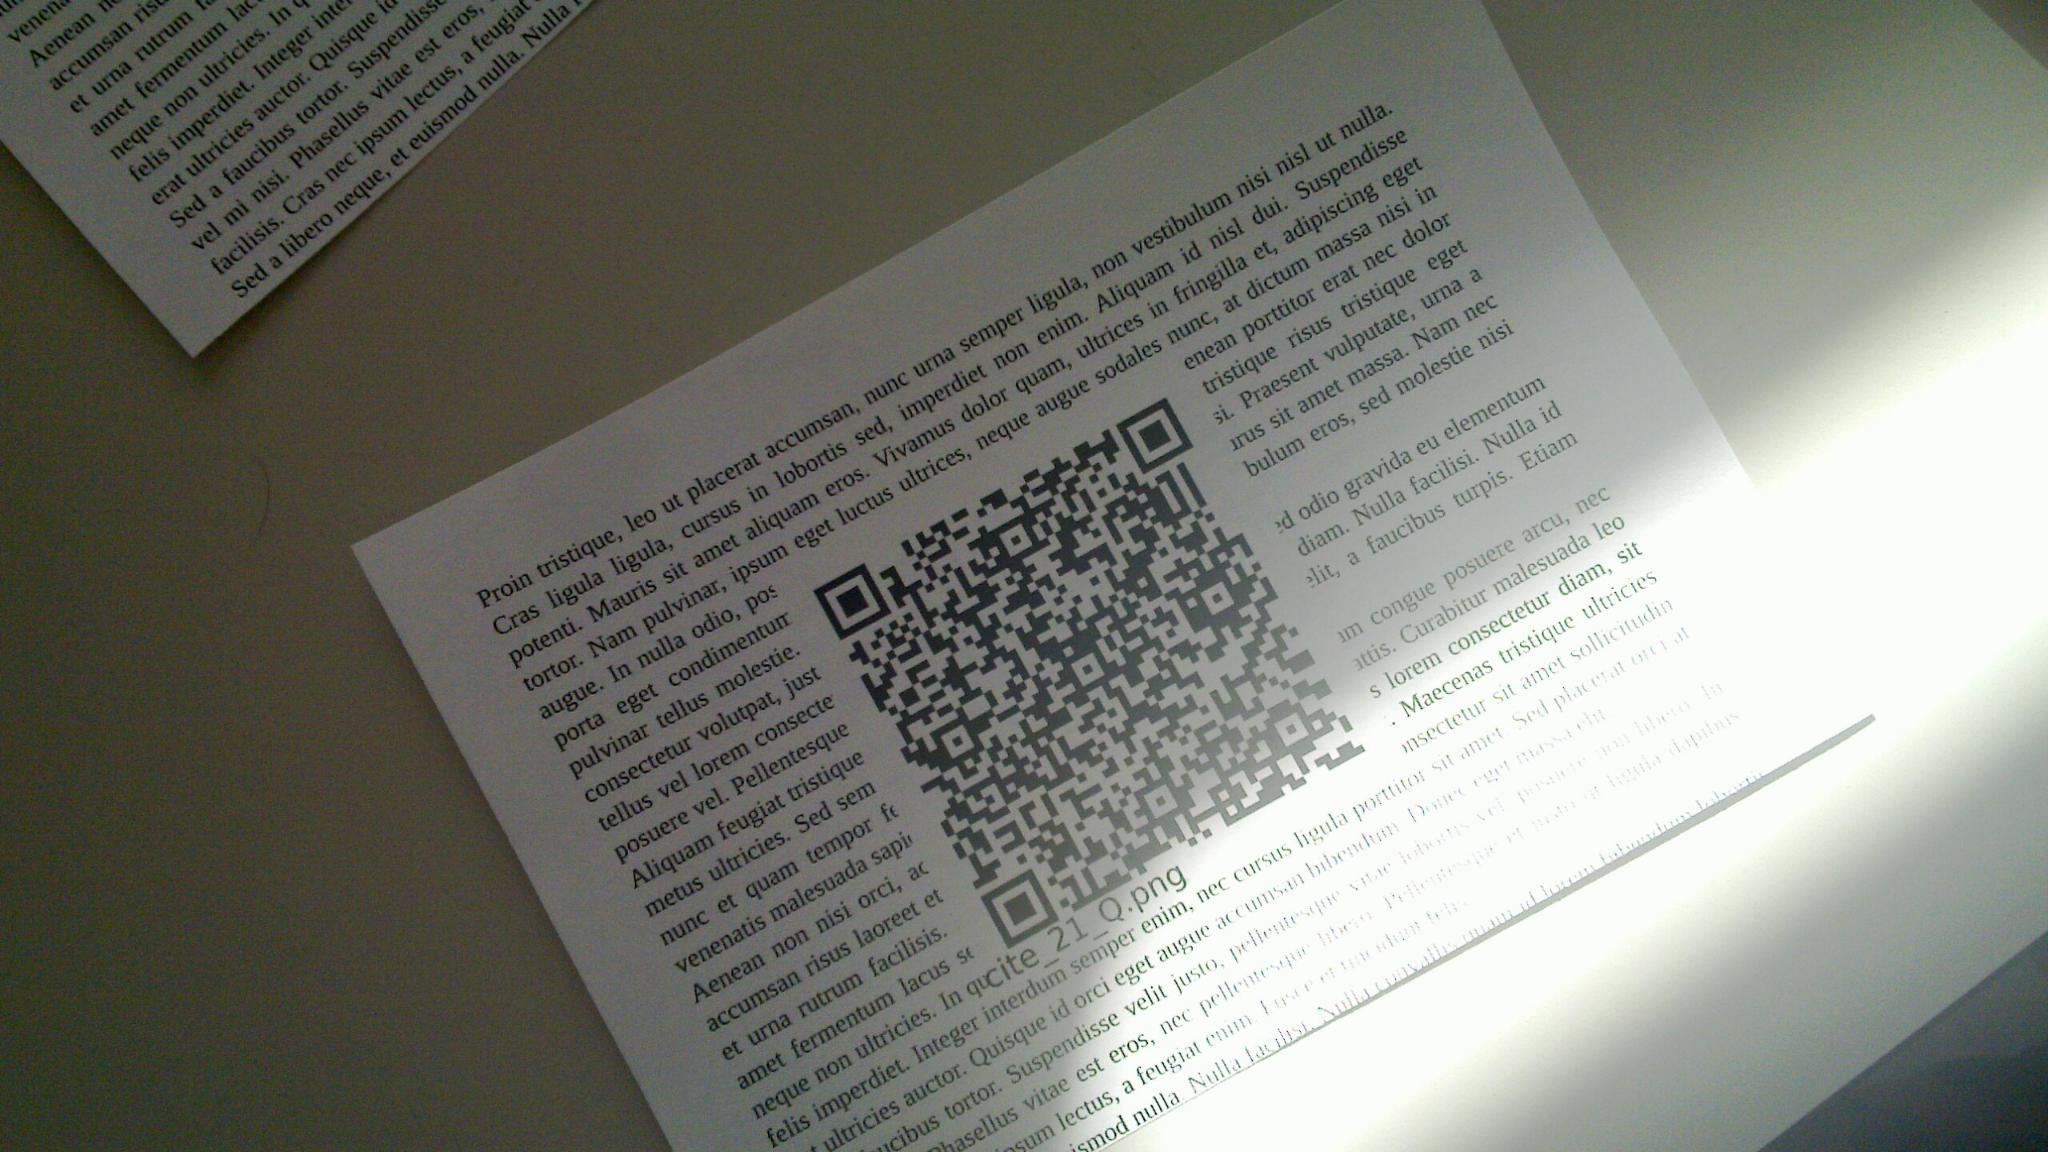Finder pattern: (975, 864, 1068, 952), (1106, 392, 1197, 481), (813, 560, 895, 648)
